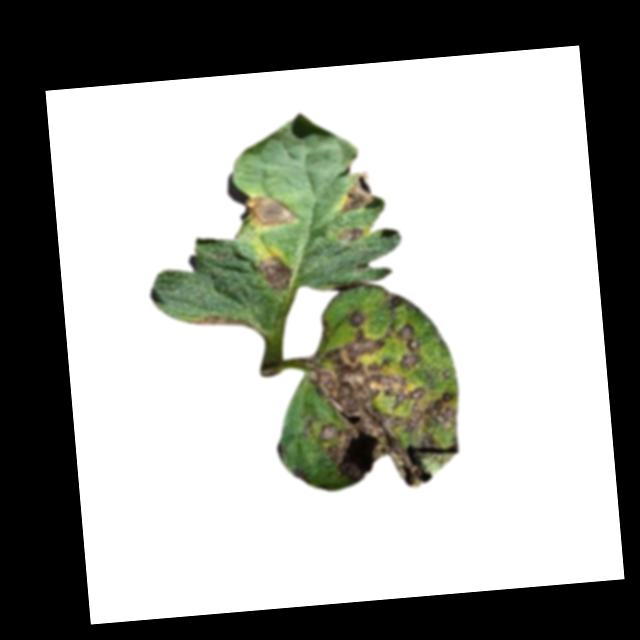Early_blight: (297, 301, 465, 494), (243, 190, 295, 231), (334, 171, 379, 213), (256, 252, 295, 292), (185, 312, 248, 334), (383, 287, 403, 310), (337, 226, 363, 242)
